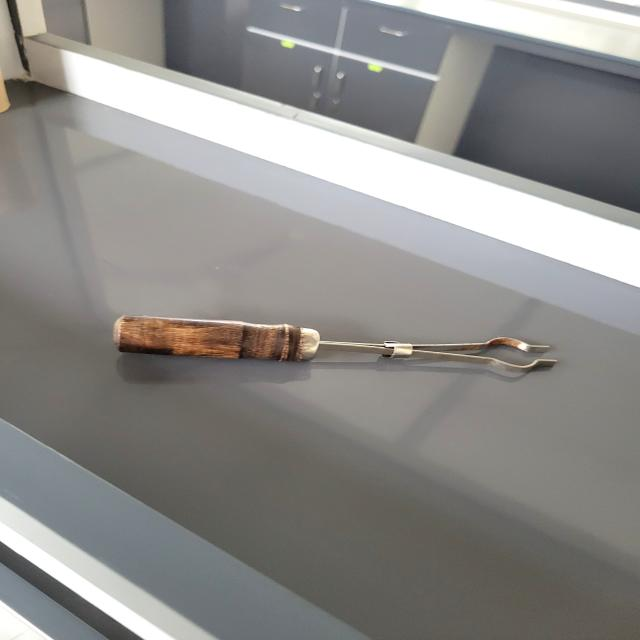TestTube_Holder: (85, 285, 568, 411)
